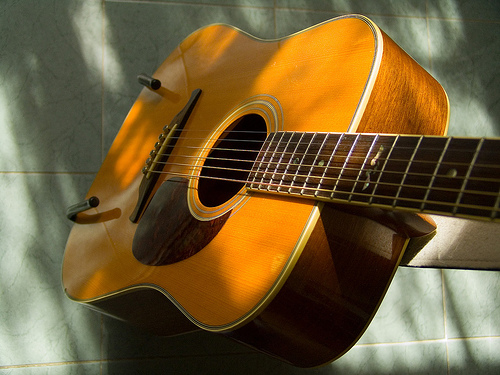guitar: (61, 11, 499, 369)
